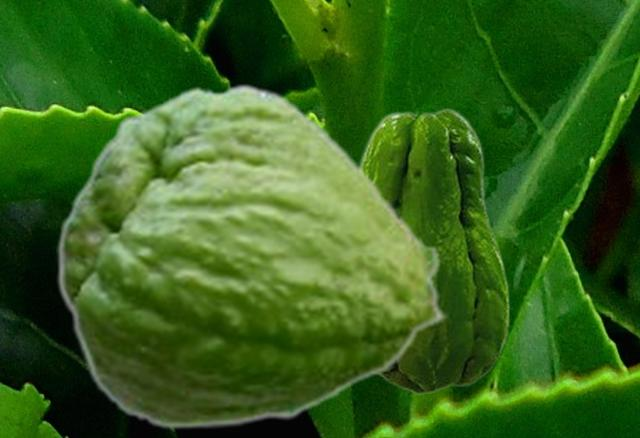sayote: (56, 82, 448, 430), (357, 107, 509, 394)
